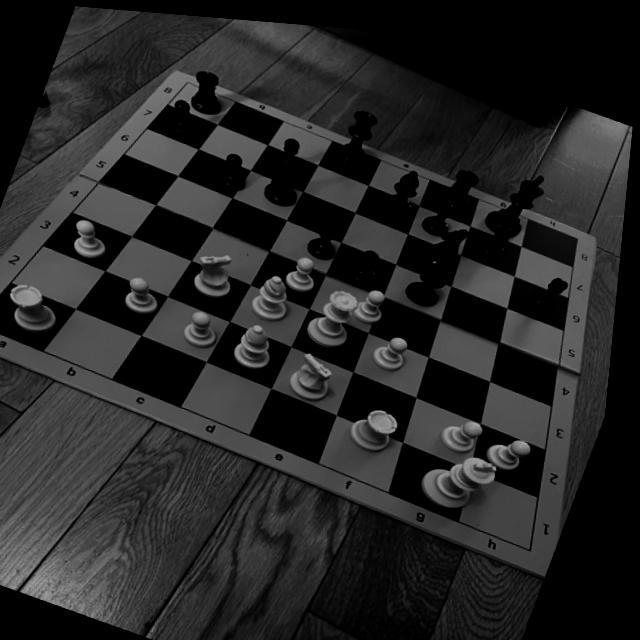chess-table-corners: (530, 532, 554, 550), (570, 222, 591, 238), (179, 72, 198, 88)
